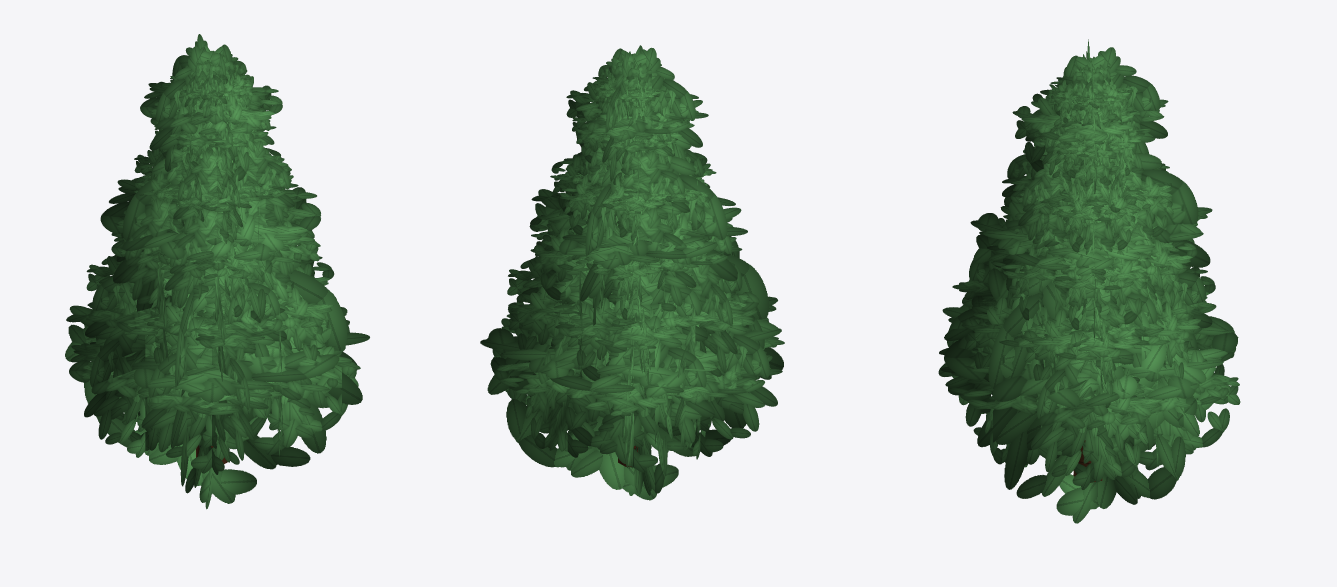
Rendered from flora_pine.glb.
The picture shows the model from 3 angles, left to right: view 1: azimuth 30°, elevation 25°; view 2: azimuth 150°, elevation 25°; view 3: azimuth 270°, elevation 25°; orthographic projection. The views are drawn at different scales.
Parts seen in each view (by area): view 1: Crown, CrownFar; view 2: Crown, CrownFar; view 3: Crown, CrownFar.
Boxes of the visible parts, x1,y1,x2,y2 form: Crown: (69,52,360,474); CrownFar: (65,34,369,509); Crown: (487,55,784,472); CrownFar: (480,45,783,500); Crown: (938,54,1240,489); CrownFar: (942,39,1237,523).
Bounding box in the file's own units: 7.09 × 8.01 × 7.09.
2 materials, 2 textured.
